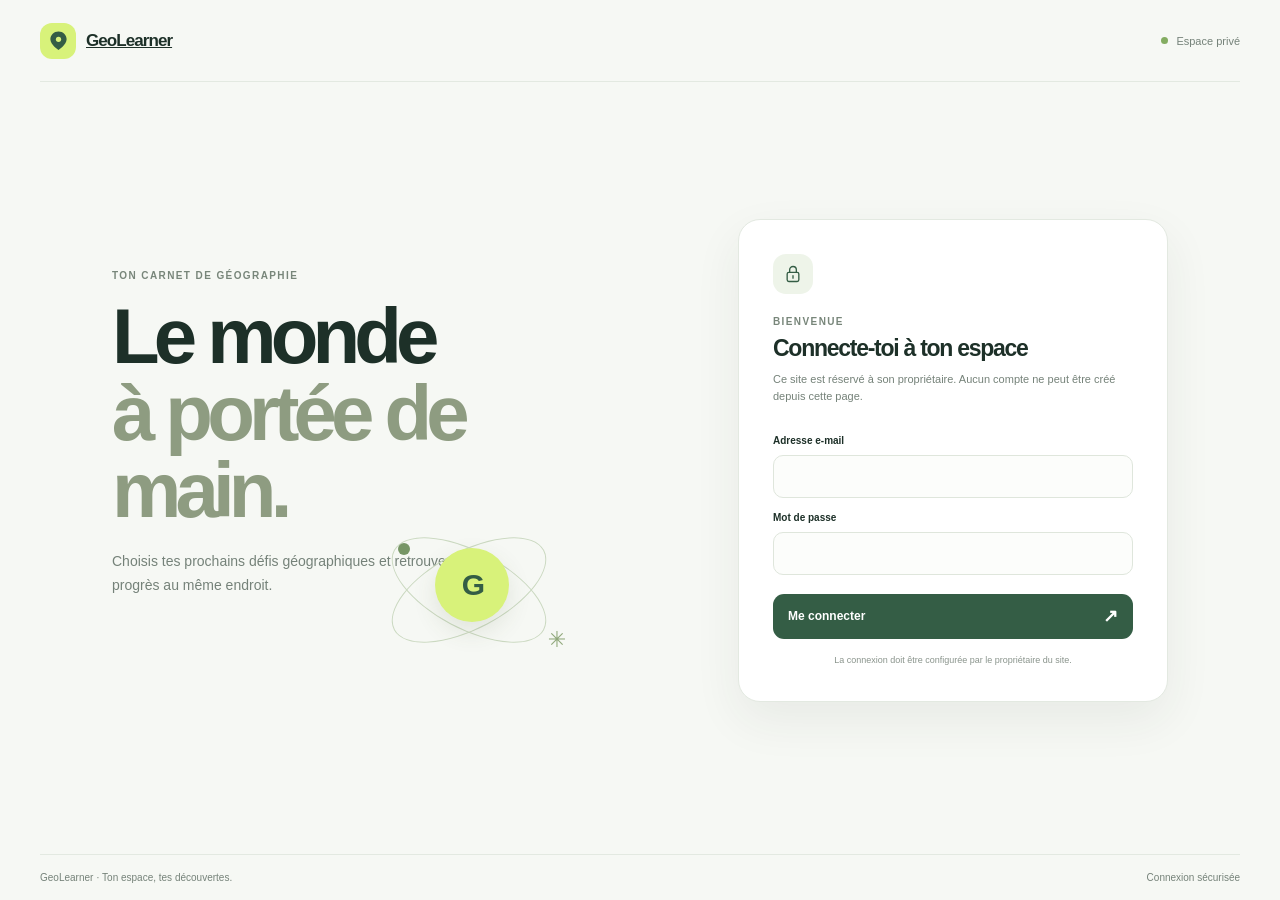
Test case: GeoLearner page interactions › displays login errors returned by the server
The image size is (1280, 900).
Step 1. Type "owner@example.com" into the field labelled "Adresse e-mail" → (953, 476), box [773,455,1133,498]
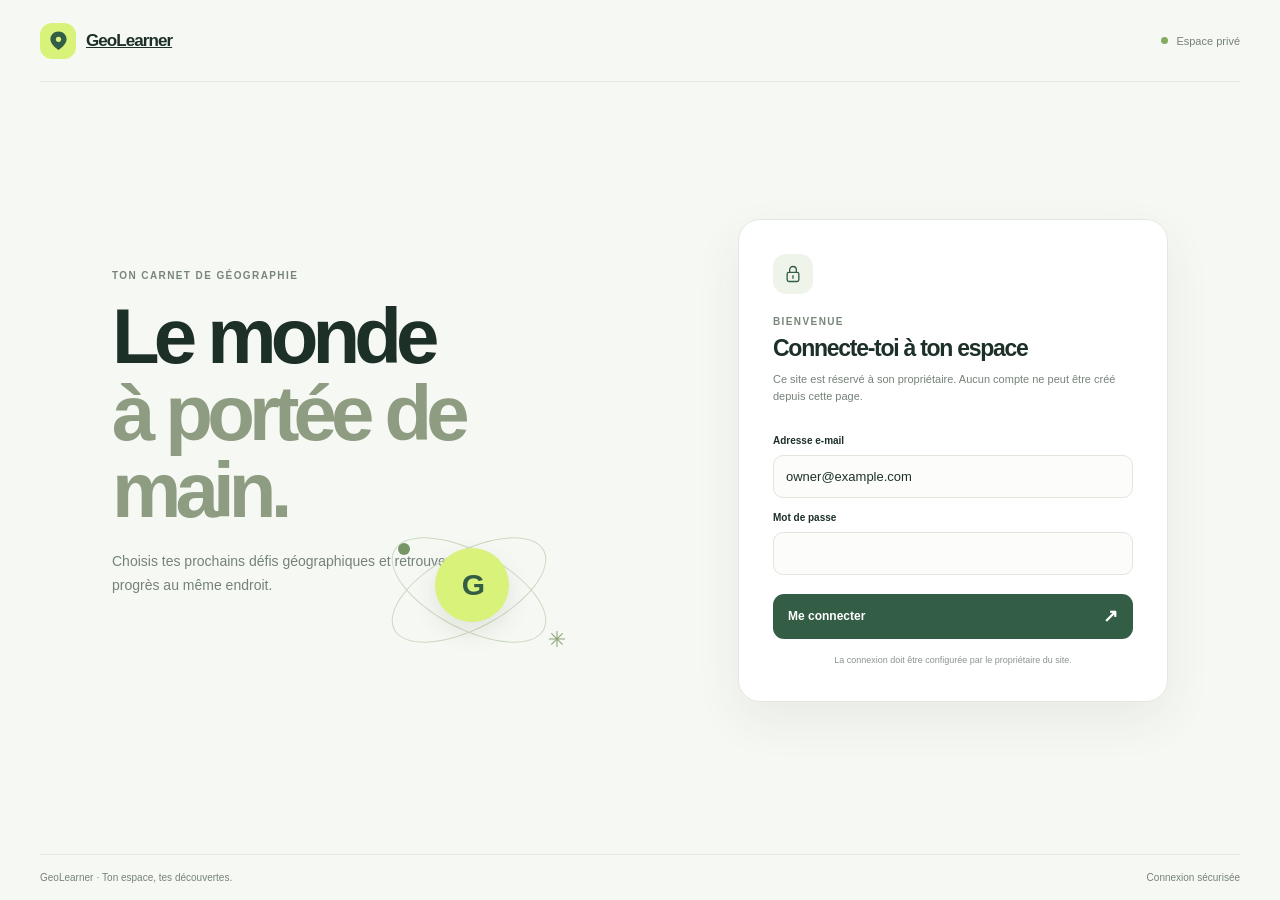
Step 2. Type "wrong-password" into the password field labelled "Mot de passe" → (953, 553), box [773,532,1133,575]
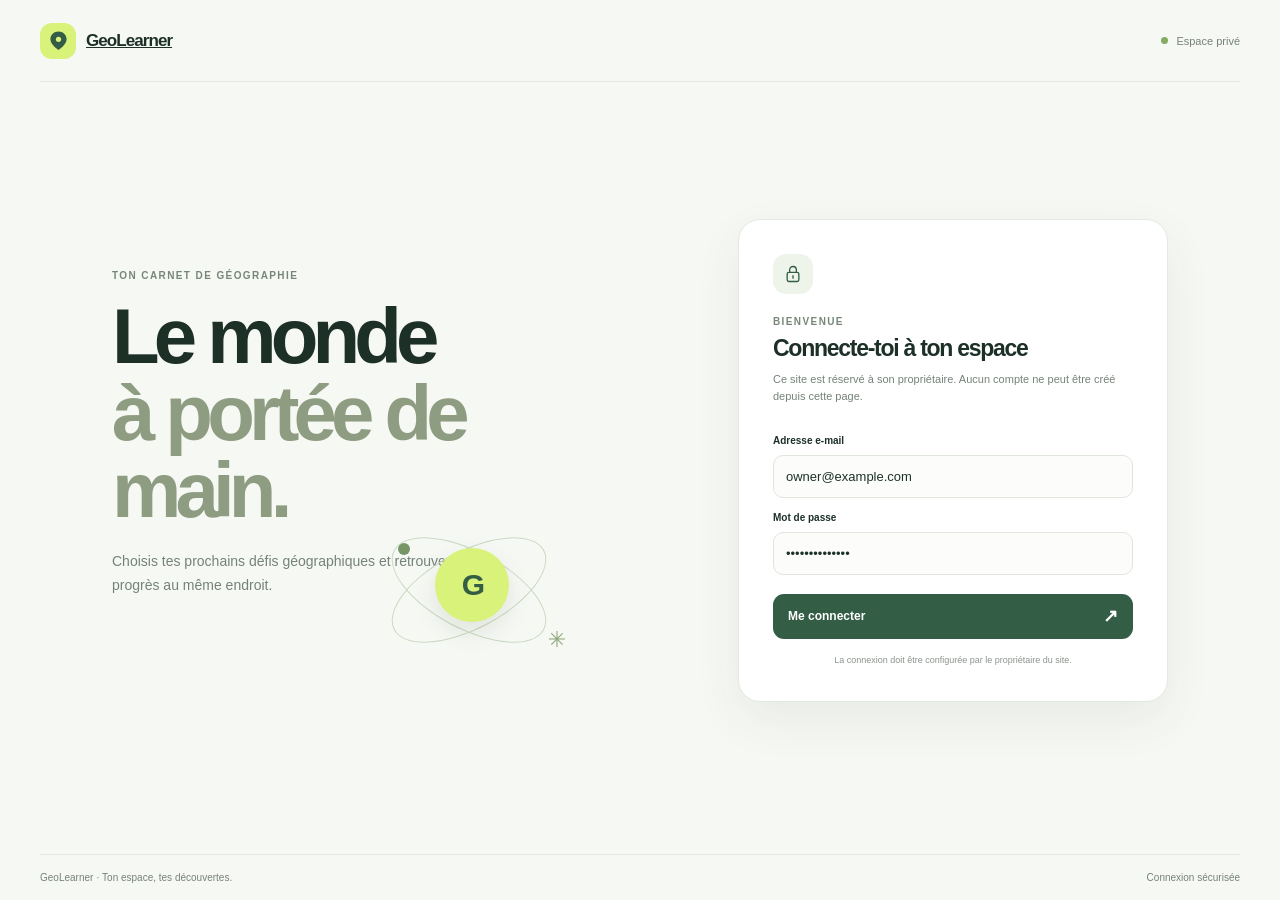
Step 3. Click the button "Me connecter ↗" → (827, 616), box [773,594,1133,639]
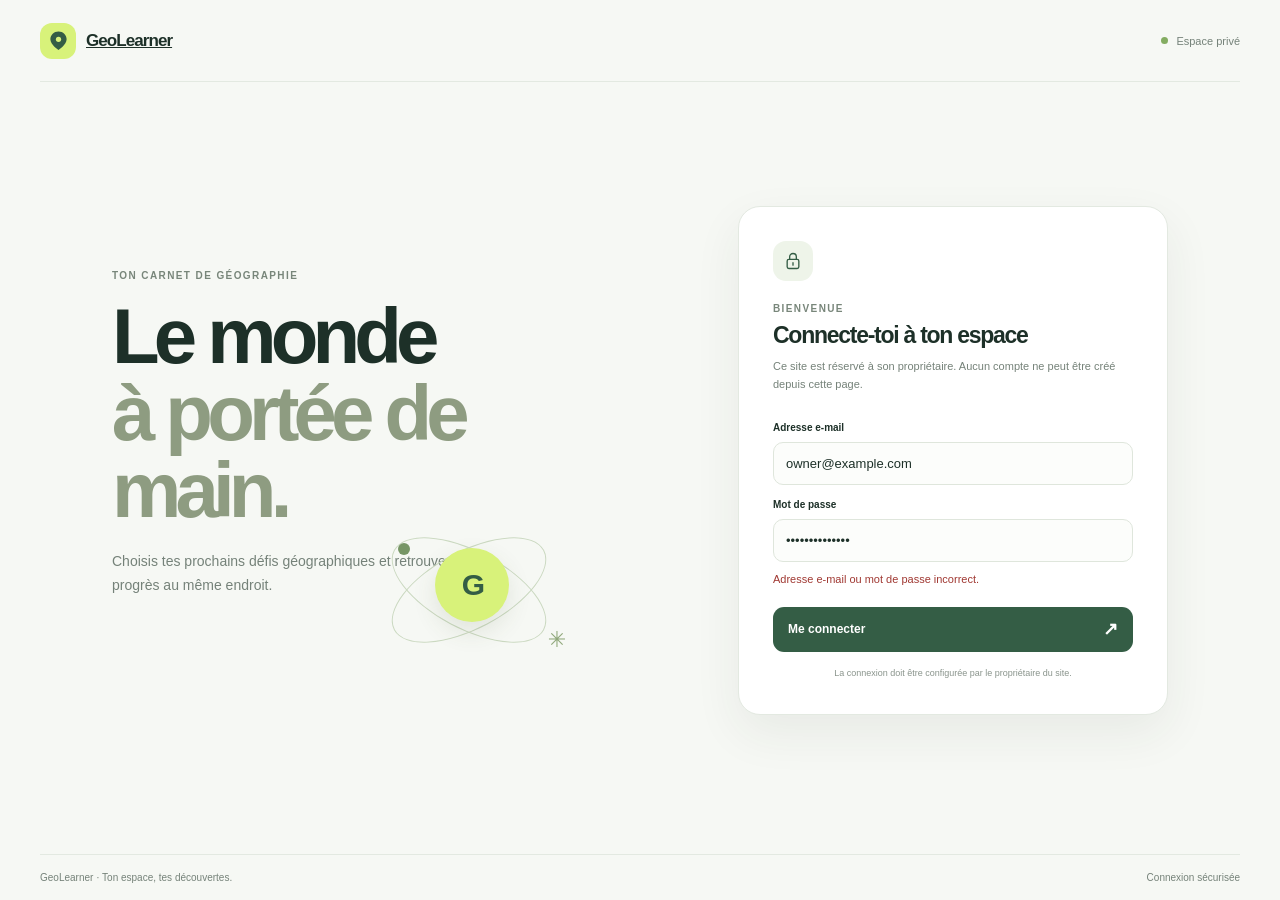
Check: the text "Adresse e-mail ou mot de passe incorrect." is shown, box [773,573,979,585]
